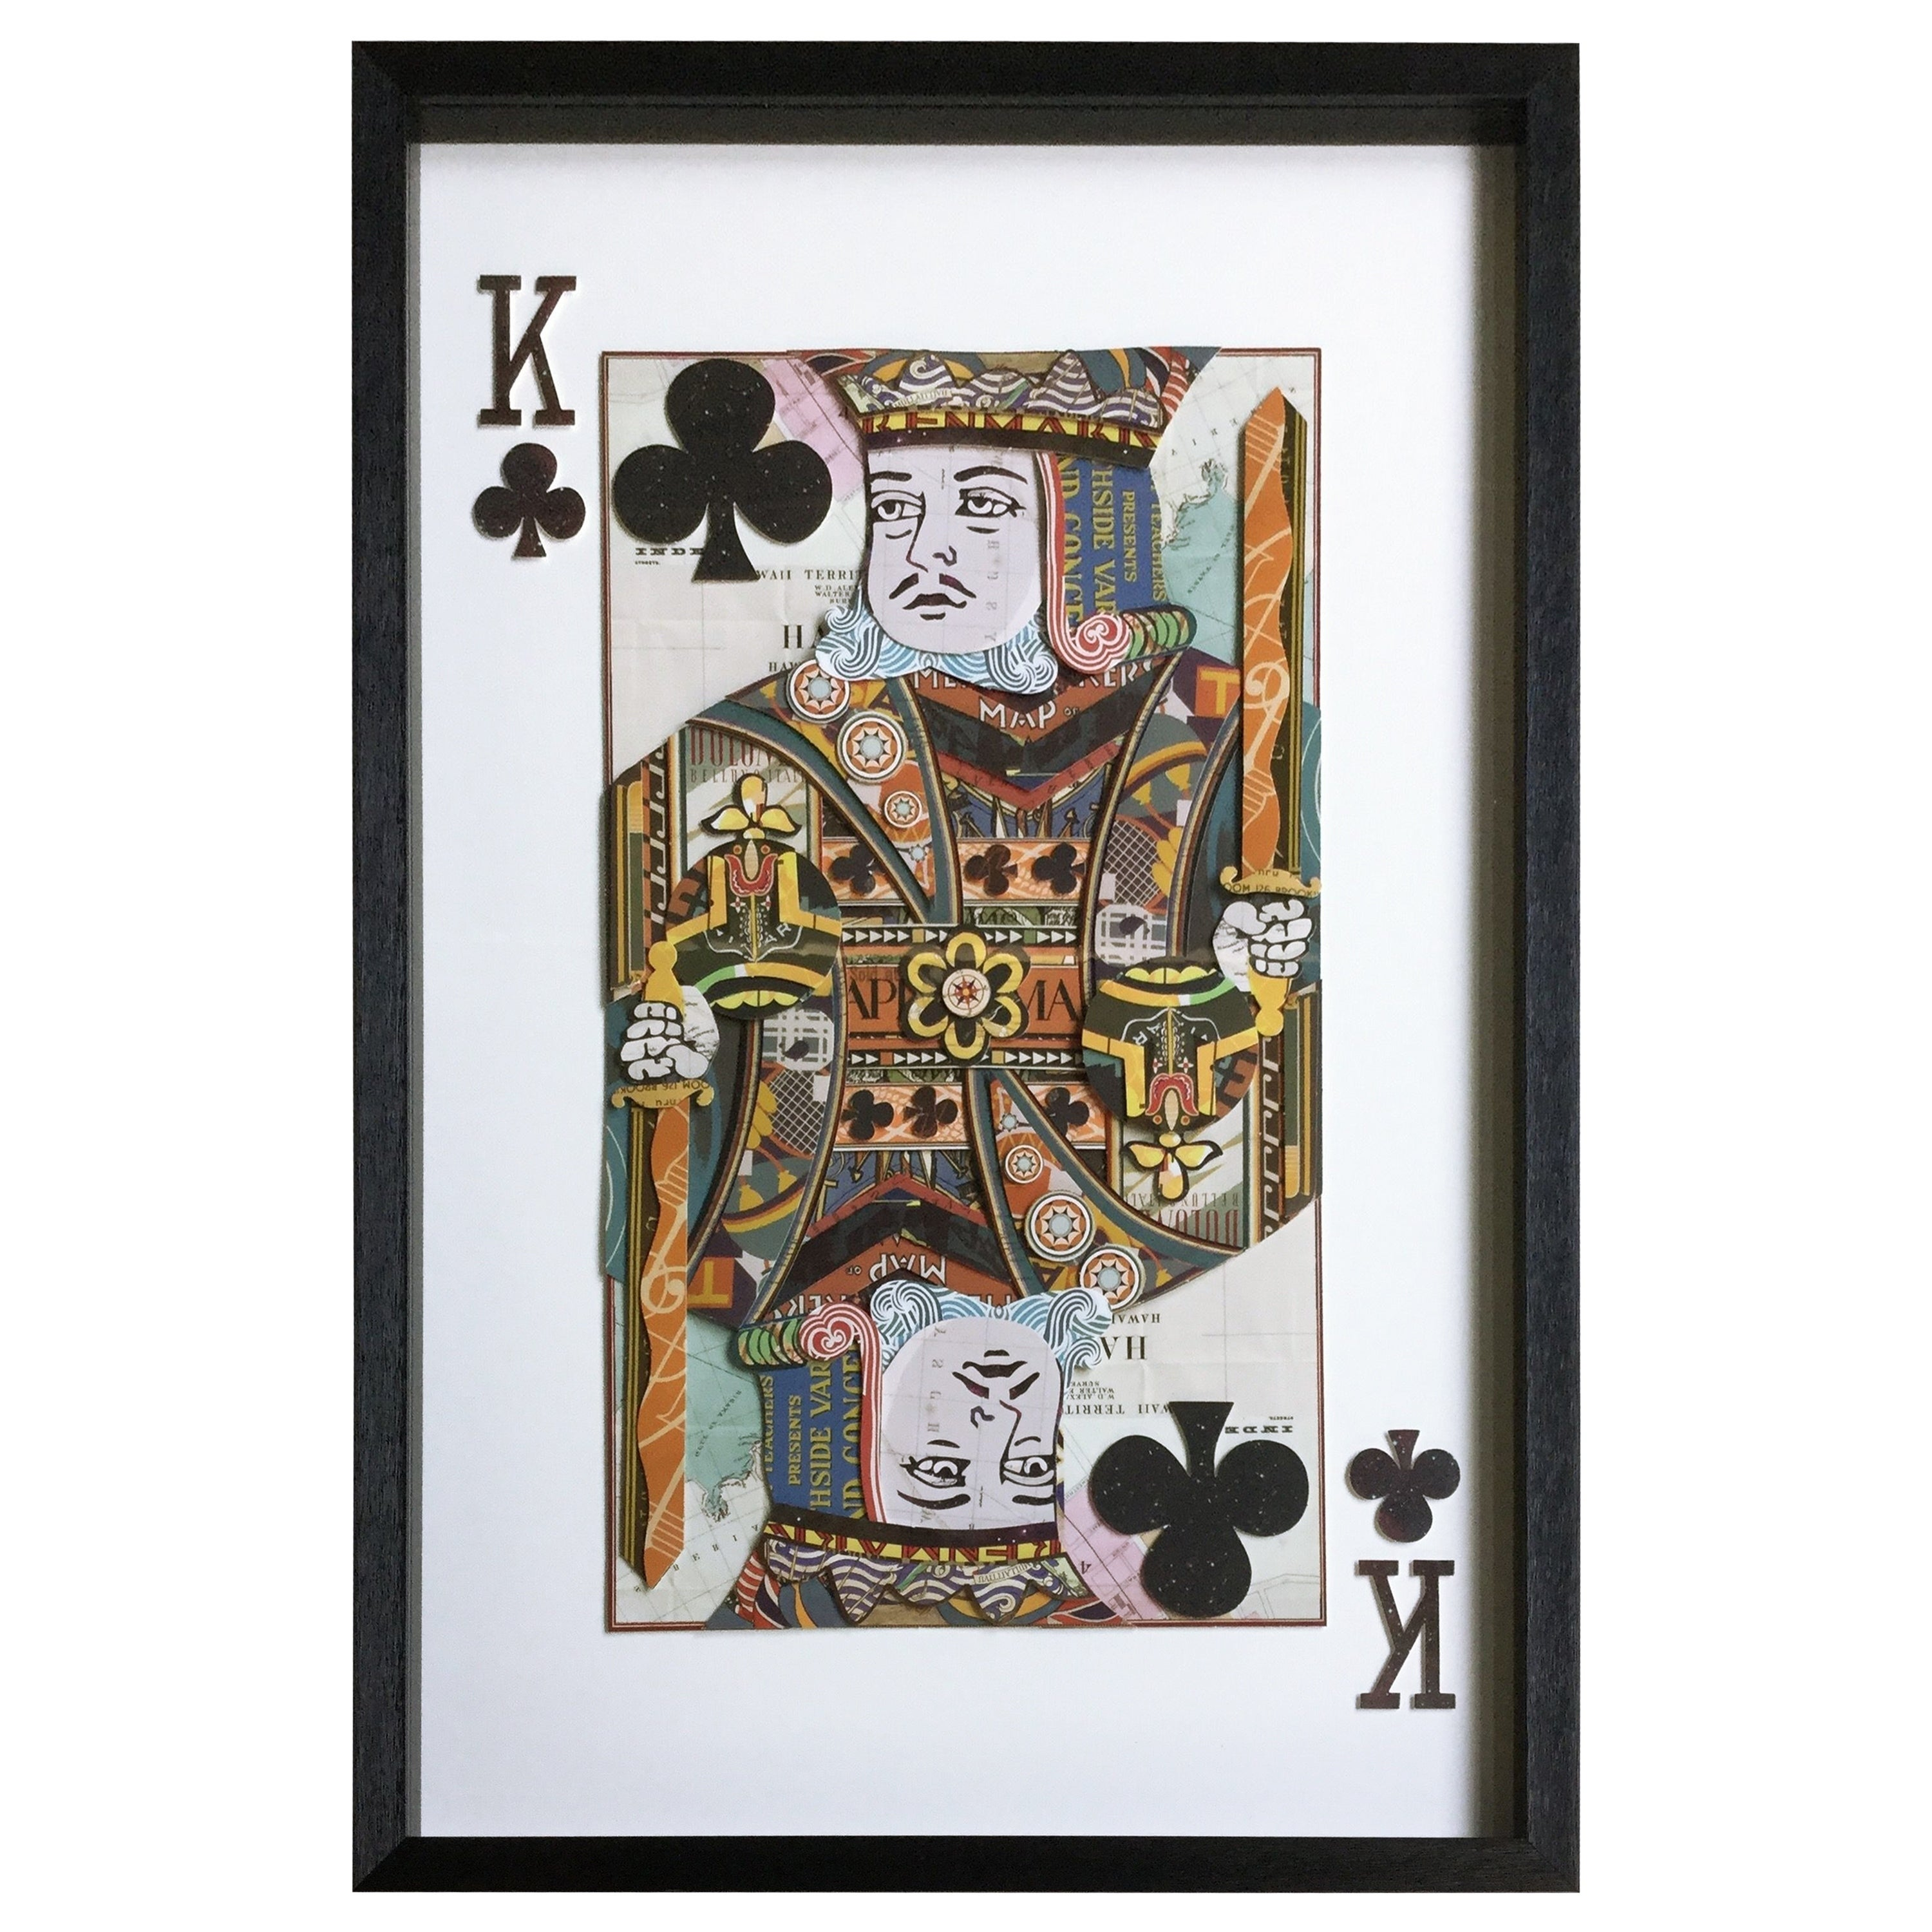king of clubs: (424, 153, 1537, 1863)
